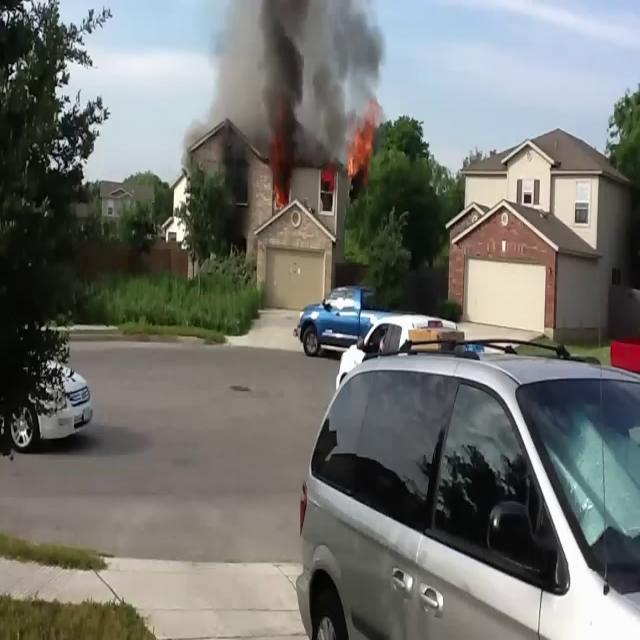Fire: (346, 120, 374, 182)
Smoke: (237, 0, 385, 170)
